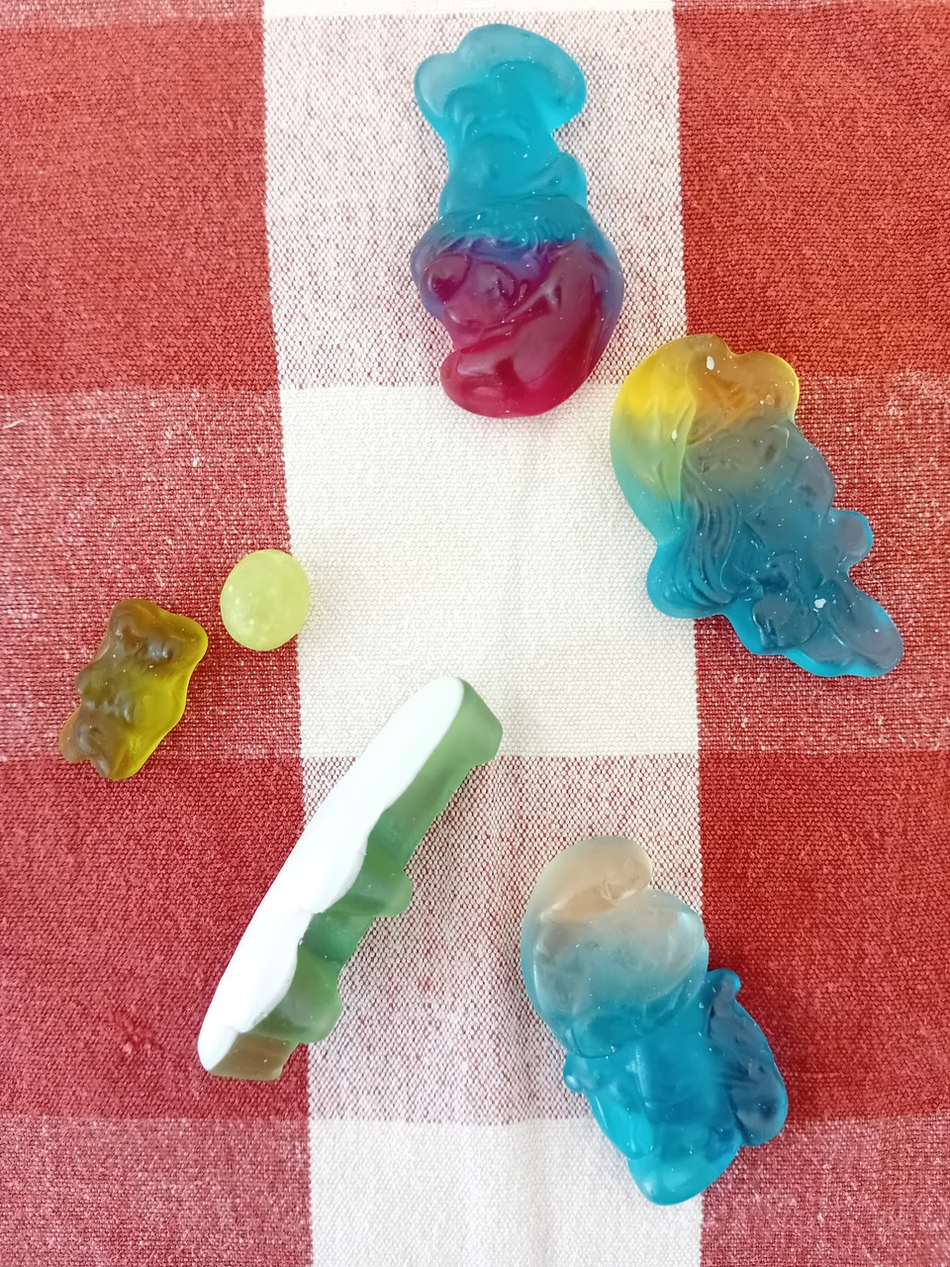crocodile_vert: (184, 666, 511, 1091)
dragibus_vert: (212, 547, 318, 655)
ourson_vert: (54, 590, 214, 788)
schtroumpf_bleu-blanc: (509, 821, 793, 1208)
schtroumpf_bleu-jaune: (603, 324, 912, 689)
schtroumpf_bleu-rouge: (398, 18, 635, 421)
